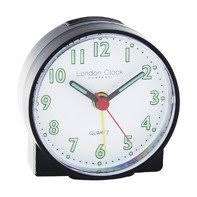alarm_clock: (14, 14, 177, 177), (14, 18, 177, 177), (26, 18, 177, 177)
